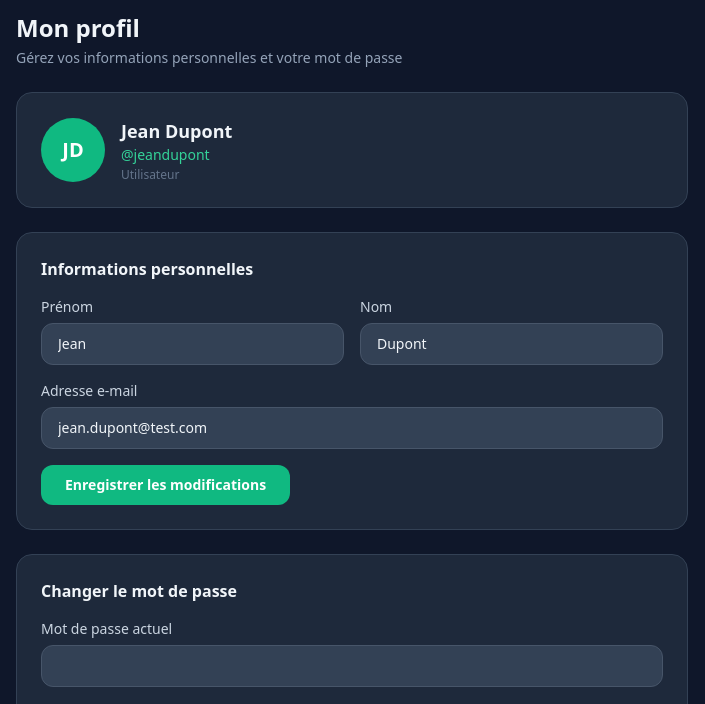
Scenario: ProfilePage › Formulaire informations personnelles › affiche une erreur si updateProfile rejette
Click the button "Enregistrer les modifications" at (166, 485), box [41, 465, 290, 505]
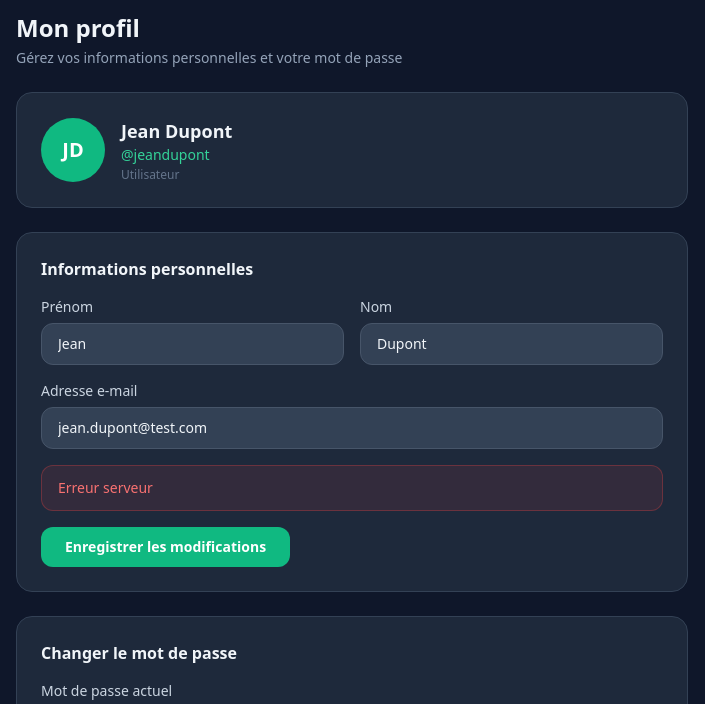
Expected: the text "Erreur serveur" is shown, [41, 465, 663, 511]
